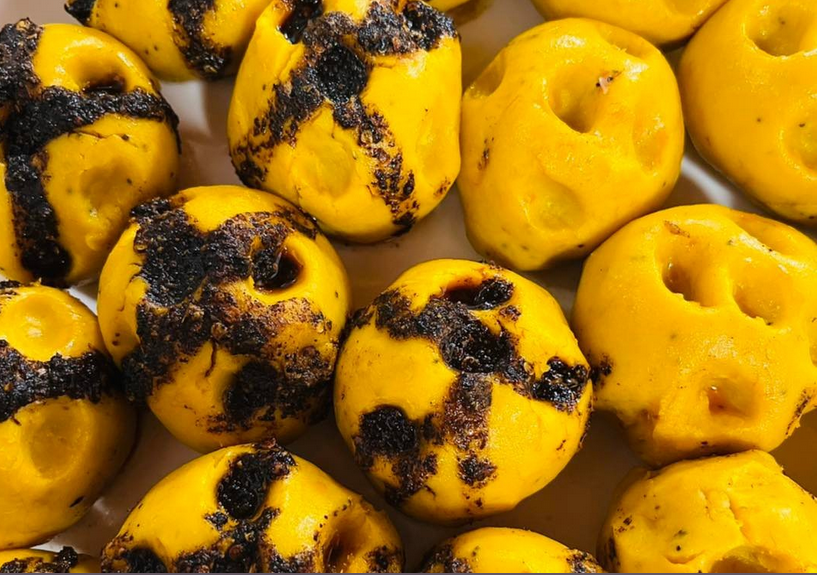foutou banane: (475, 44, 668, 231)
sauce noire: (140, 225, 241, 288)
